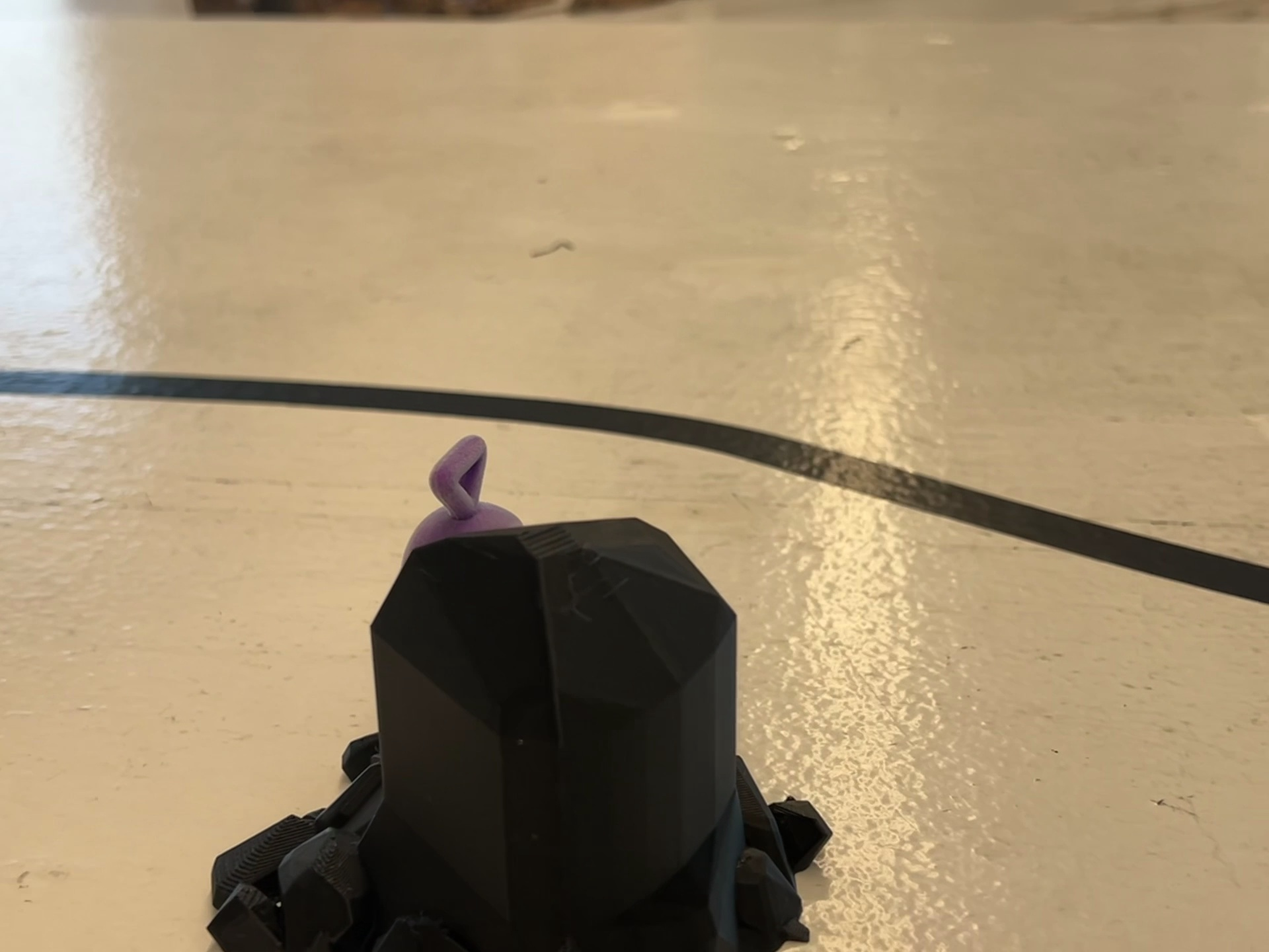teletubby: (403, 436, 522, 562)
